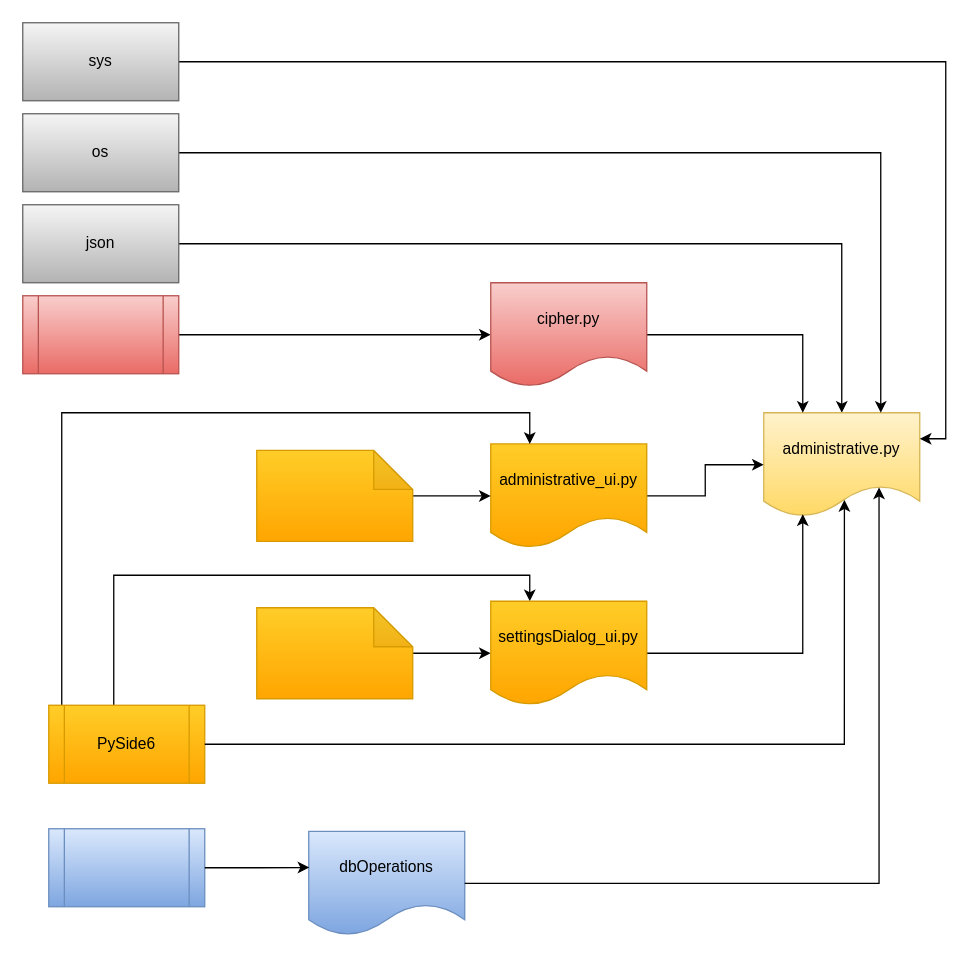
This 979x958 diagram has some shape labels left out. Here are the shapes that lost their labels. From the top down, the centre of each, then its label:
At point 100,334: "cryptography".
At point 334,495: "administrative.ui".
At point 334,652: "settingsDialog.ui".
At point 126,867: "psycopg2".
